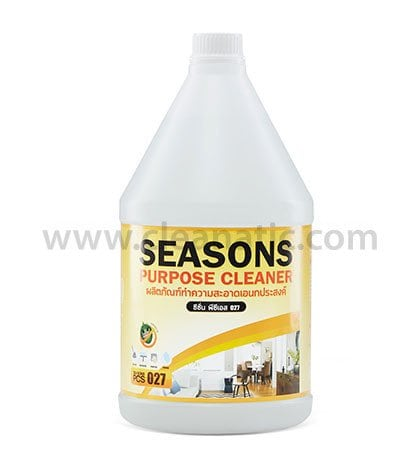Cleaning_solution: (111, 29, 320, 439)
